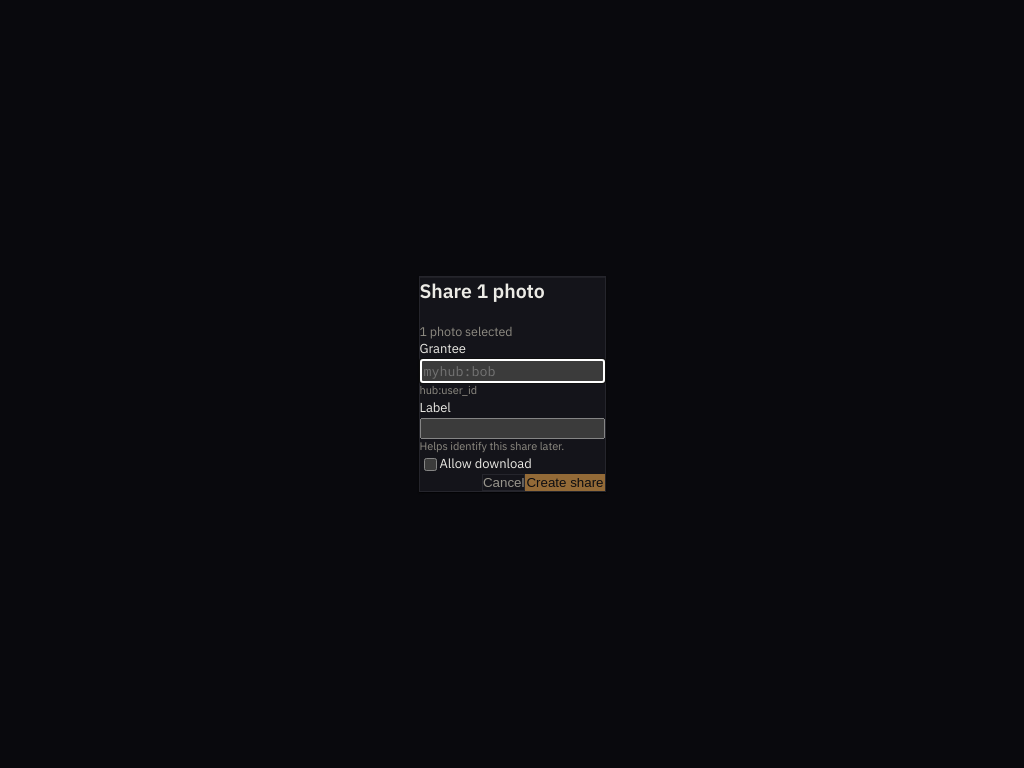
Test: ShareModal media_set › enables primary once grantee is valid
Type "h:b" into the field with placeholder "myhub:bob". click: (512, 371)
box: [420,359,604,383]
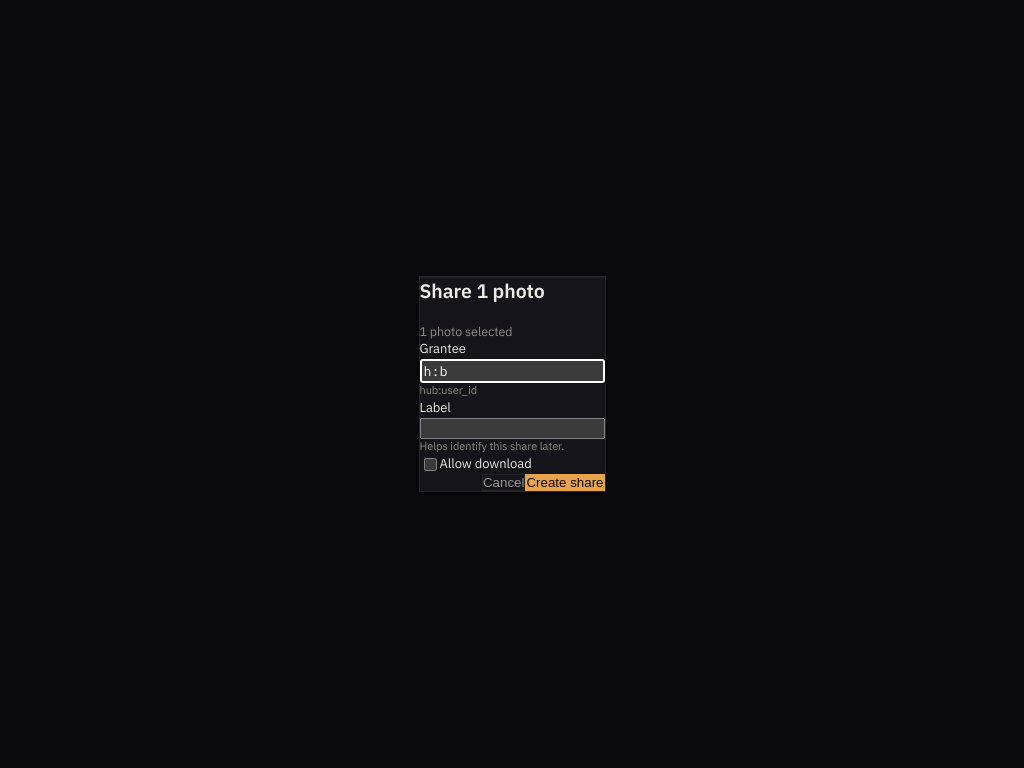
Now the button "Create share" is enabled, box [526,474,604,491]
